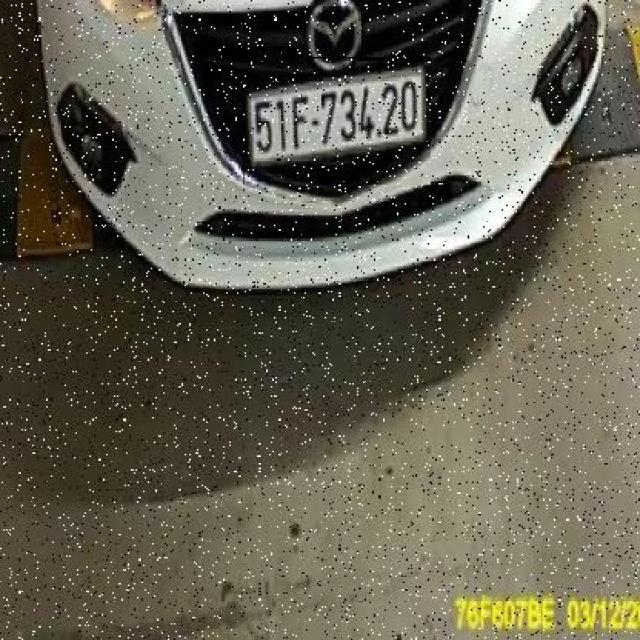number_plate: (243, 57, 431, 185)
